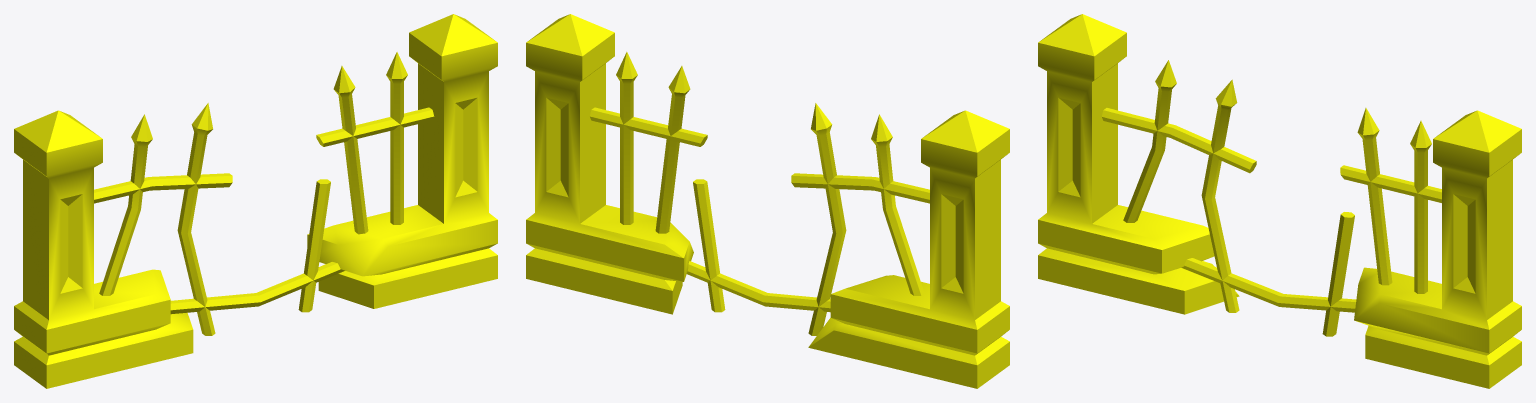
The model's file is kaykit-fence-broken.glb.
The picture shows the model from 3 angles, left to right: view 1: azimuth 30°, elevation 25°; view 2: azimuth 150°, elevation 25°; view 3: azimuth 330°, elevation 25°; orthographic projection.
Visible parts, largest first — view 1: fence_broken; view 2: fence_broken; view 3: fence_broken.
Part boxes in pixels (x1,y1,x2,y2): fence_broken: [14, 14, 497, 388]; fence_broken: [526, 14, 1009, 388]; fence_broken: [1038, 14, 1521, 388].
Size of the model in its own units: 4 by 2.2 by 0.5.
